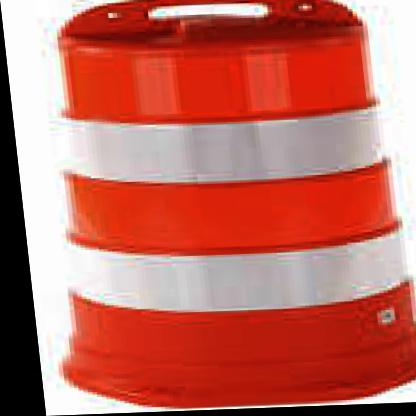obstacle: (45, 0, 416, 407)
